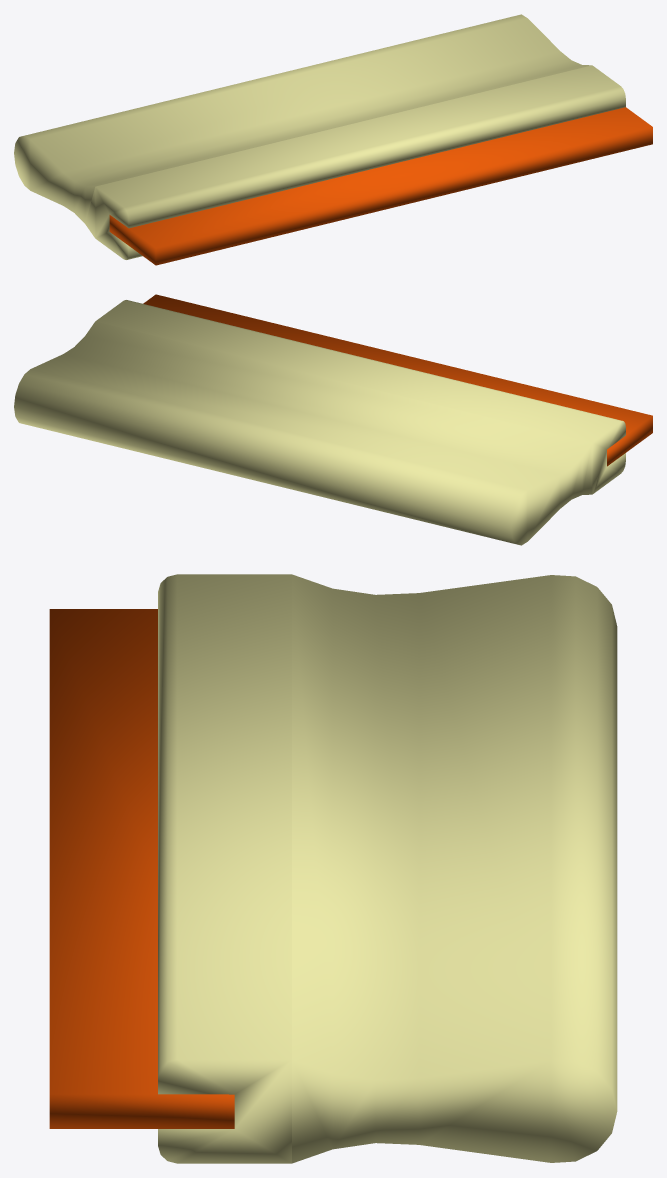
File: Screen Printing1 Squeegee.fbx
3 renders of one model, top to bottom at view 1: azimuth 30°, elevation 25°; view 2: azimuth 150°, elevation 25°; view 3: azimuth 270°, elevation 25°, orthographic. The views are drawn at different scales.
Parts seen in each view (by area): view 1: Sqeegee.002; view 2: Sqeegee.002; view 3: Sqeegee.002.
Part boxes in pixels (x1,y1,x2,y2): Sqeegee.002: (14, 14, 652, 265); Sqeegee.002: (14, 294, 652, 545); Sqeegee.002: (49, 574, 617, 1163).
Bounding box in the file's own units: 30032 × 3000 × 14832.
